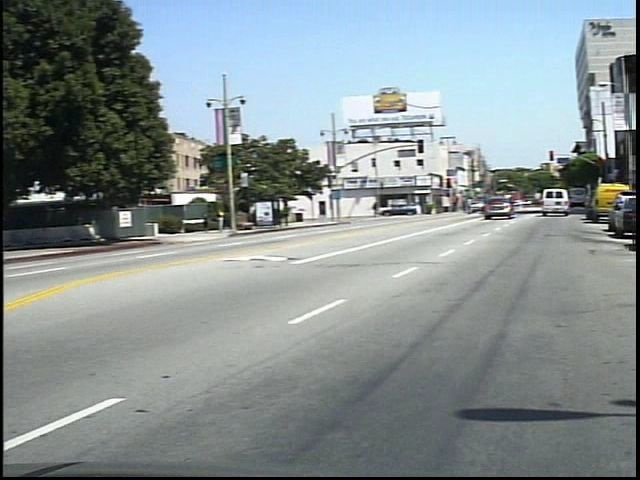person: (222, 207, 238, 236), (209, 208, 223, 235), (381, 201, 390, 218)
